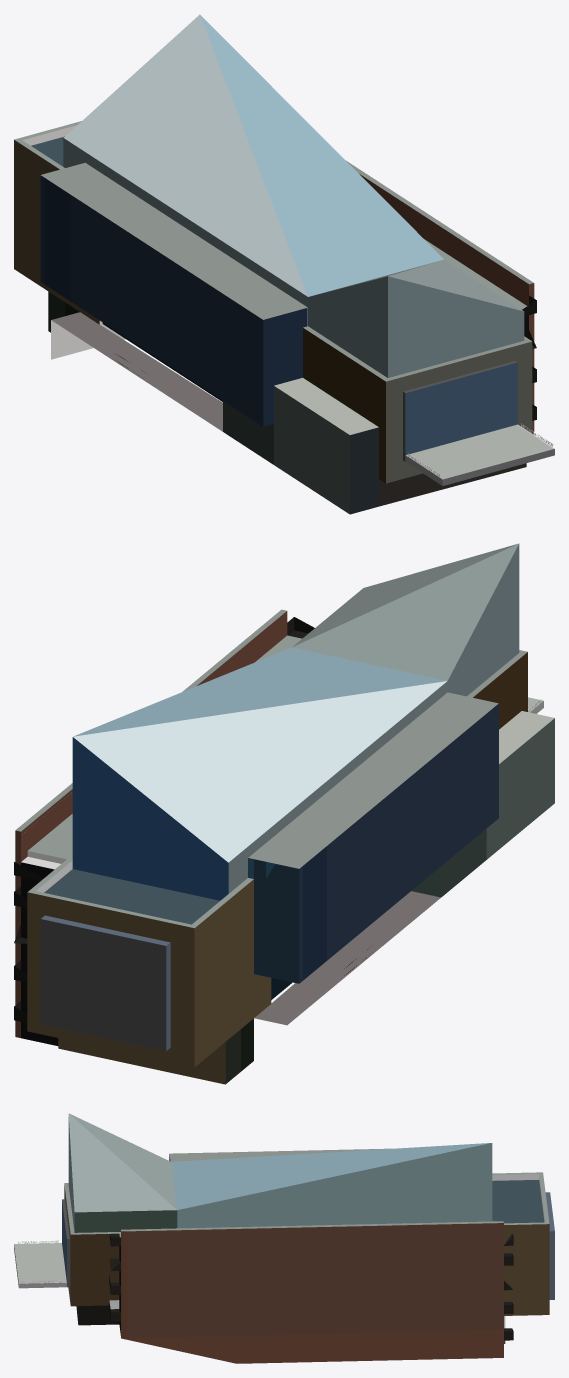
The model's file is tennessee-aquarium-ocean-journey.glb.
The picture shows the model from 3 angles, top to bottom: view 1: azimuth 30°, elevation 25°; view 2: azimuth 150°, elevation 25°; view 3: azimuth 270°, elevation 25°; orthographic projection. The views are drawn at different scales.
Visible parts, largest first — view 1: LOD0; view 2: LOD0; view 3: LOD0.
Boxes of the visible parts, x1=… form: LOD0: x1=14, y1=14, x2=554, y2=514; LOD0: x1=14, y1=543, x2=554, y2=1084; LOD0: x1=14, y1=1113, x2=554, y2=1363.
Size of what is drawn, in the model's own units: 30.75 by 32.75 by 80.45.
2 materials, 2 textured.
